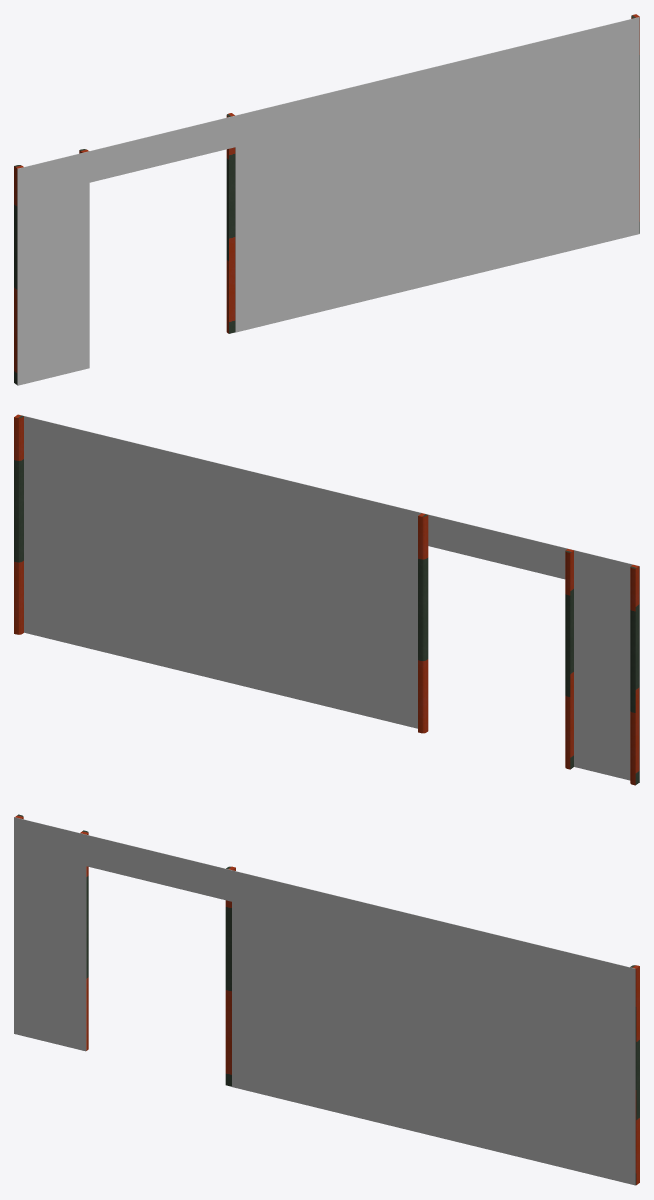
Rendered from livingroomwall_3.fbx.
3 views of the same model, one above another, from view 1: azimuth 30°, elevation 25°; view 2: azimuth 150°, elevation 25°; view 3: azimuth 330°, elevation 25° (orthographic).
Visible parts, largest first — view 1: pPlane17; view 2: pPlane17; view 3: pPlane17.
Boxes of the visible parts, <box> form: pPlane17: <box>14,14,639,385</box>; pPlane17: <box>14,414,639,785</box>; pPlane17: <box>14,814,639,1185</box>.
Size of the model in its own units: 9.05 by 3.01 by 0.1005.
